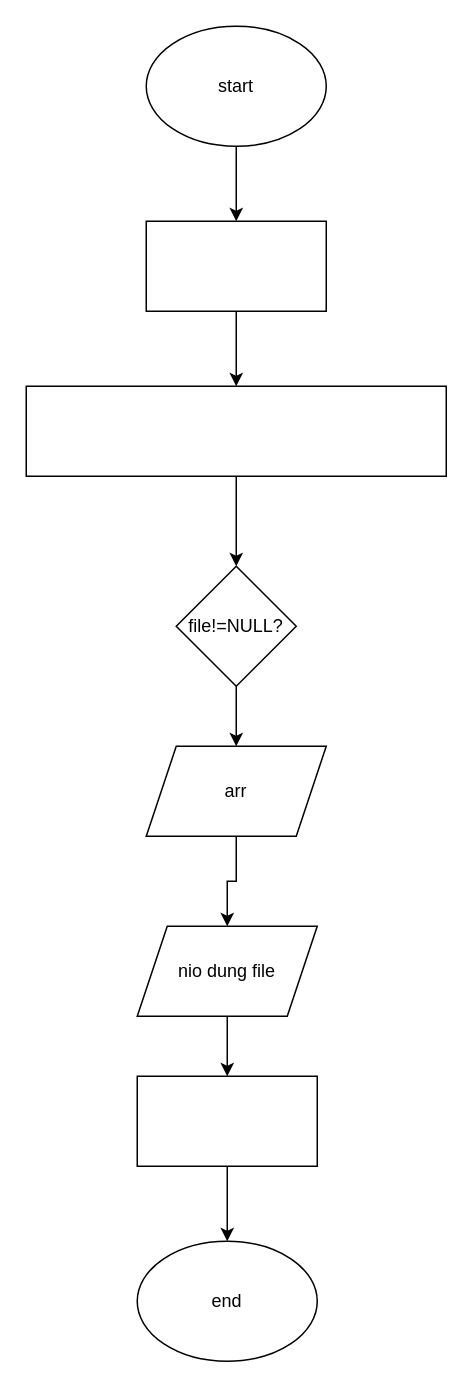
Some shapes in this 473 by 1388 pixel diagram are drawn without their labels. The box of each missing label's shape, as (x1, y1, x2, y2) in pixels:
fclose(file): (136, 1075, 317, 1166)
FILE *file = NULL char arr[100]: (145, 220, 326, 311)
file = fopen("C:\\Users\\Admin\\Desktop\\bt01.txt","w");: (25, 385, 446, 476)
